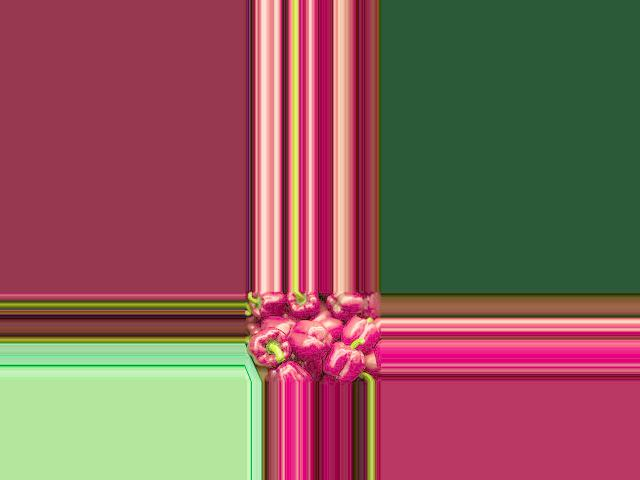bell_pepper: (247, 291, 284, 317)
